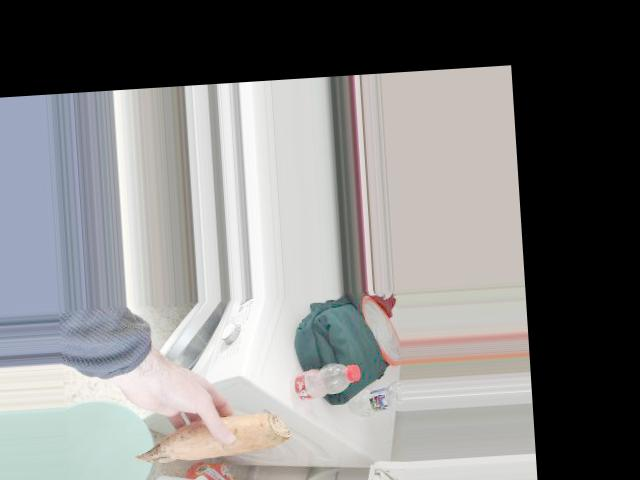sweet_potato: (133, 417, 298, 460)
